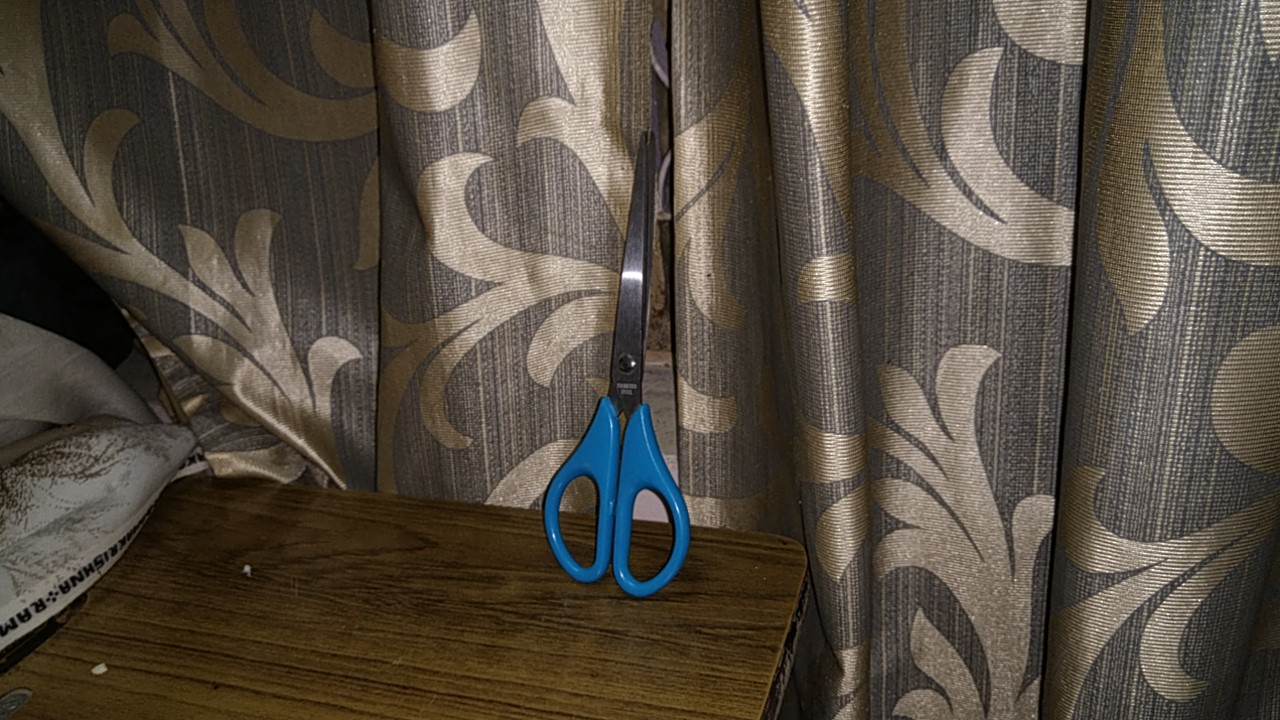scissor: (503, 108, 709, 606)
